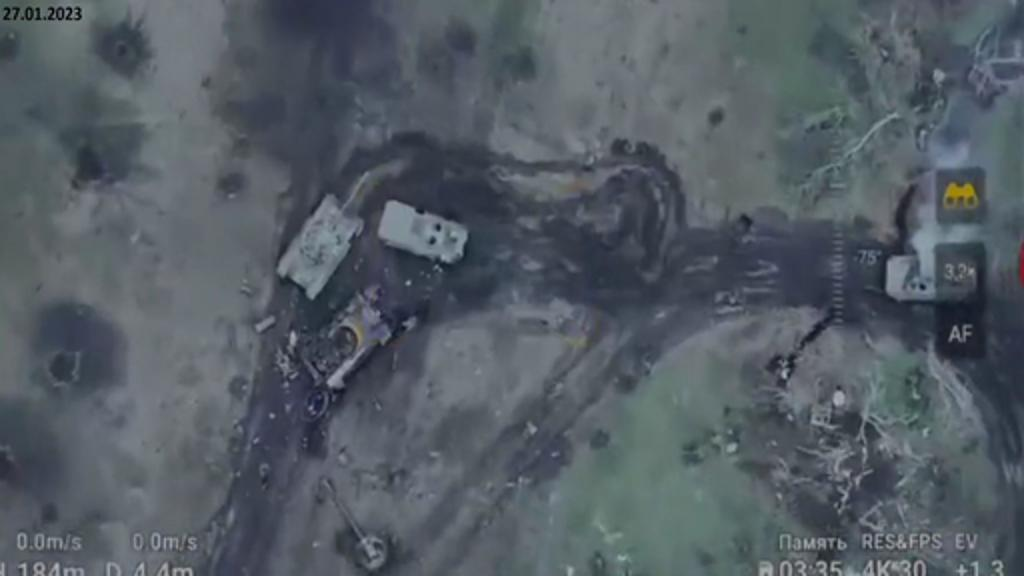APC-IFV: (374, 196, 464, 270), (880, 248, 974, 304)
TANK: (272, 166, 374, 306)
